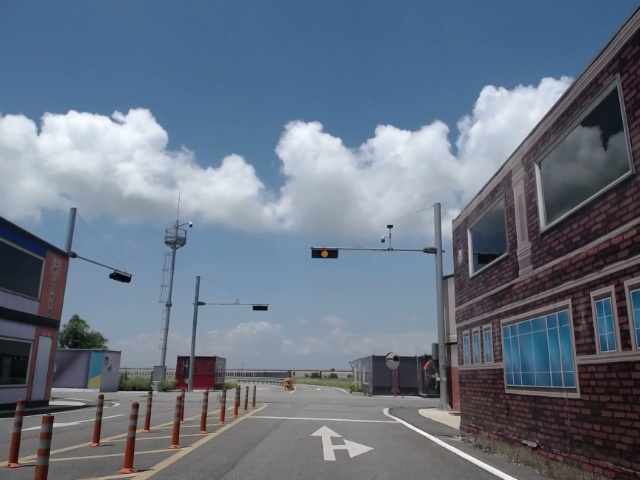orange_3: (312, 247, 338, 258)
